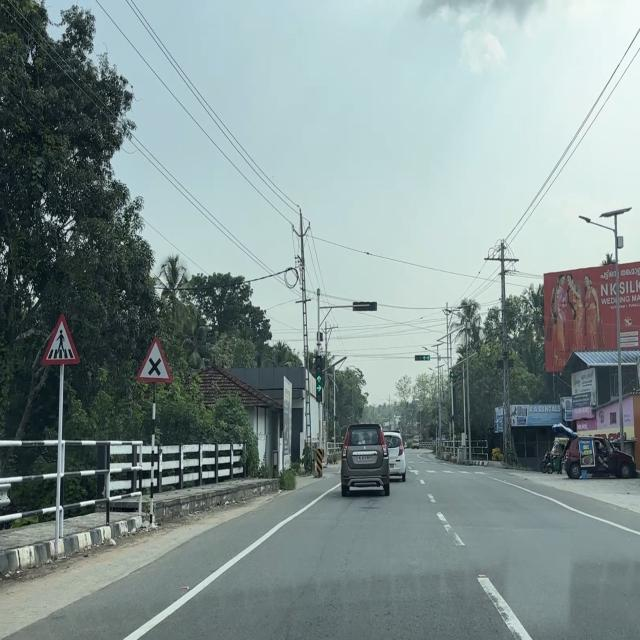CROSS_ROAD: (135, 332, 174, 386)
PEDESTRIAN_CROSSING: (40, 310, 82, 368)
